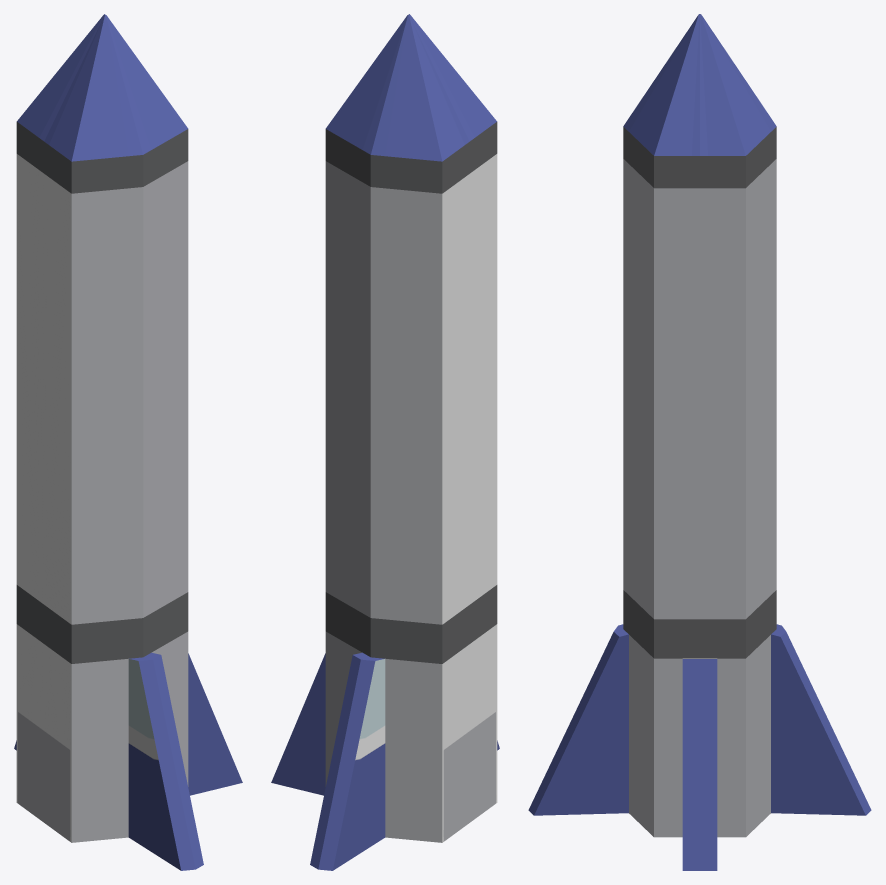
Rendered from Bullet.fbx.
The picture shows the model from 3 angles, left to right: view 1: azimuth 30°, elevation 25°; view 2: azimuth 150°, elevation 25°; view 3: azimuth 270°, elevation 25°; orthographic projection.
Visible parts, largest first — view 1: Cube; view 2: Cube; view 3: Cube.
Boxes of the visible parts, <box> form: Cube: <box>14,14,242,870</box>; Cube: <box>271,14,499,870</box>; Cube: <box>528,14,871,870</box>.
Size of the model in its own units: 2.23 by 8.88 by 3.48.
Materials: 1 (1 with a texture image).
